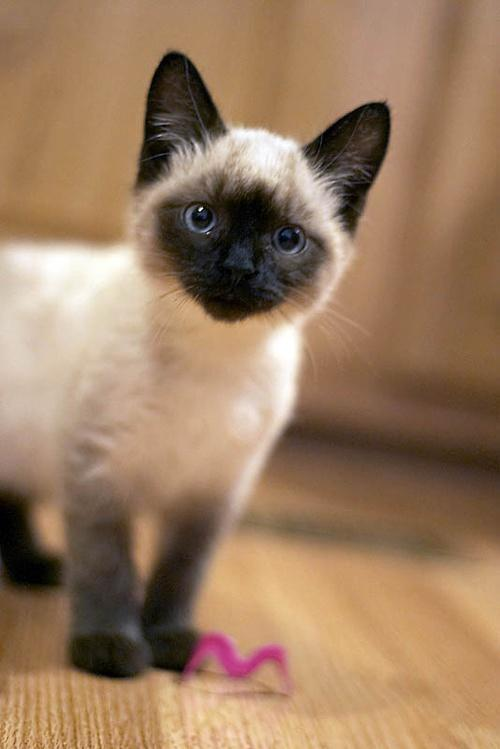siamese: (125, 49, 399, 338)
